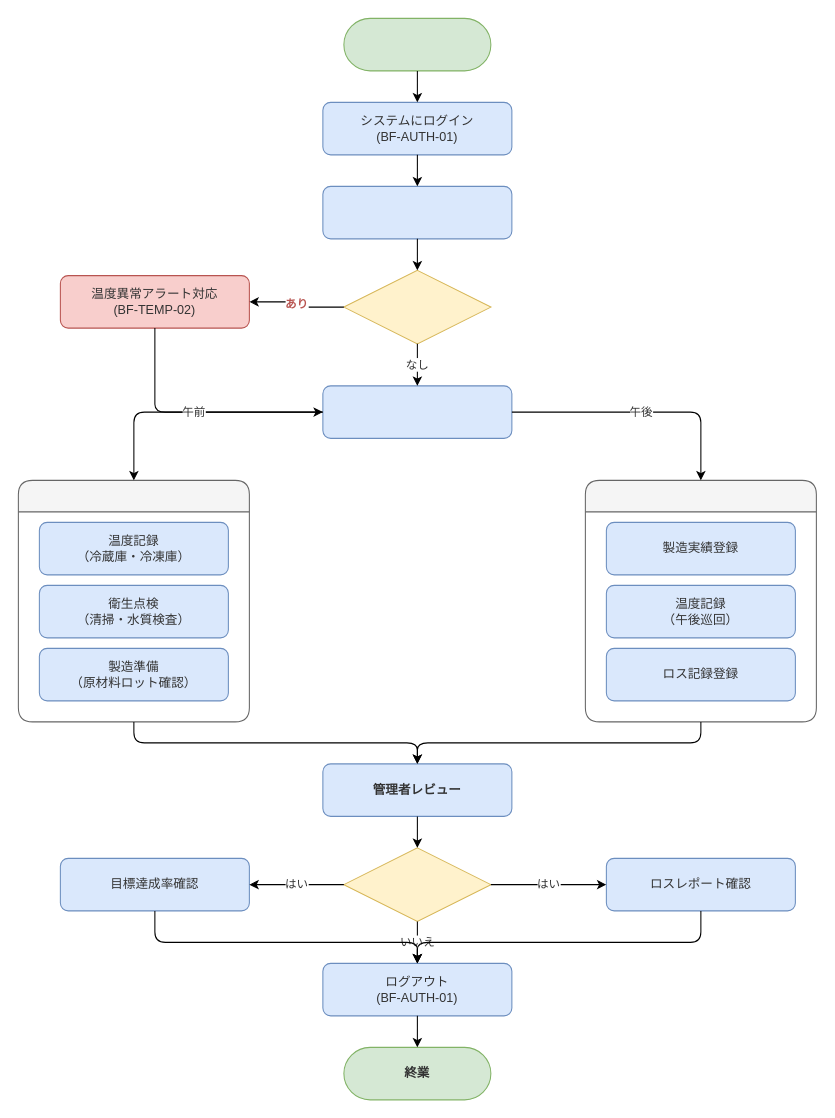
Some shapes in this 835 by 1118 pixel diagram are drawn without their labels. Here are the shapes that lost their labels. From the top down, the box of each, then its label:
(343, 17, 491, 71): 始業
(322, 185, 512, 239): ダッシュボードを確認
(343, 269, 491, 344): 未対応アラート あり？
(322, 385, 512, 438): 日常業務
(17, 479, 249, 722): 午前の業務
(584, 479, 816, 722): 午後の業務
(343, 847, 491, 921): 分析業務 必要？
